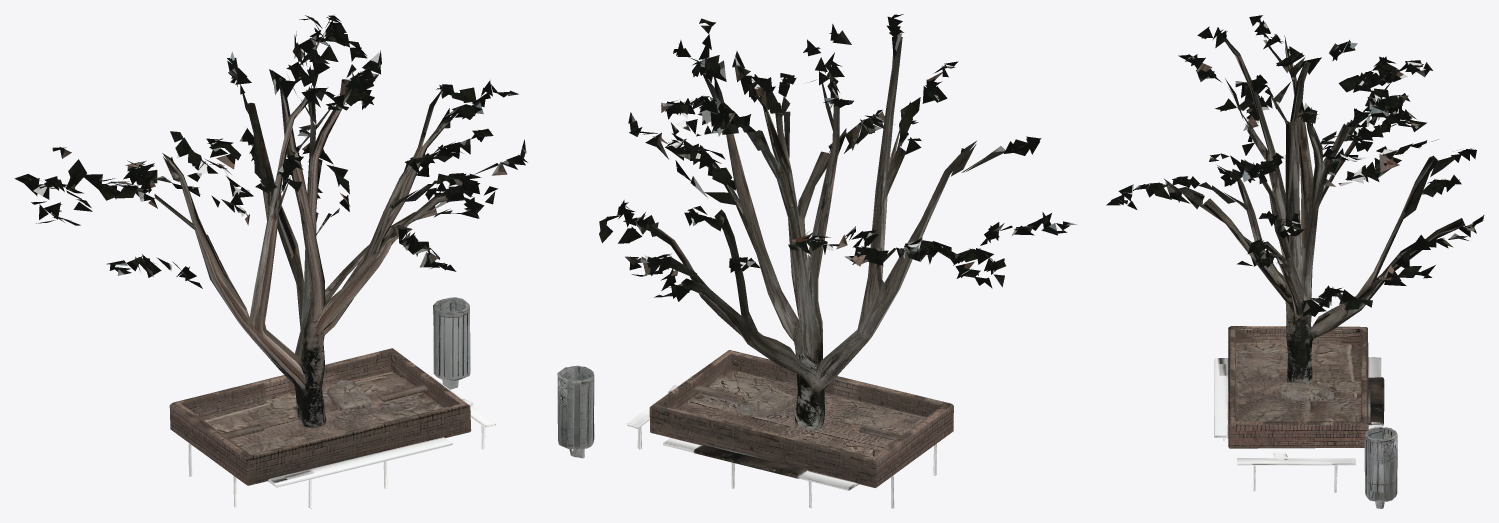
File: tree.glb
The picture shows the model from 3 angles, left to right: view 1: azimuth 30°, elevation 25°; view 2: azimuth 150°, elevation 25°; view 3: azimuth 270°, elevation 25°; orthographic projection. The views are drawn at different scales.
Parts seen in each view (by area): view 1: mesh_node; view 2: mesh_node; view 3: mesh_node.
Part boxes in pixels (<box>): mesh_node: <box>14,15,527,508</box>; mesh_node: <box>557,14,1076,508</box>; mesh_node: <box>1106,15,1484,508</box>.
Size of the model in its own units: 0.1254 by 0.12 by 0.1055.
1 material, 1 textured.
